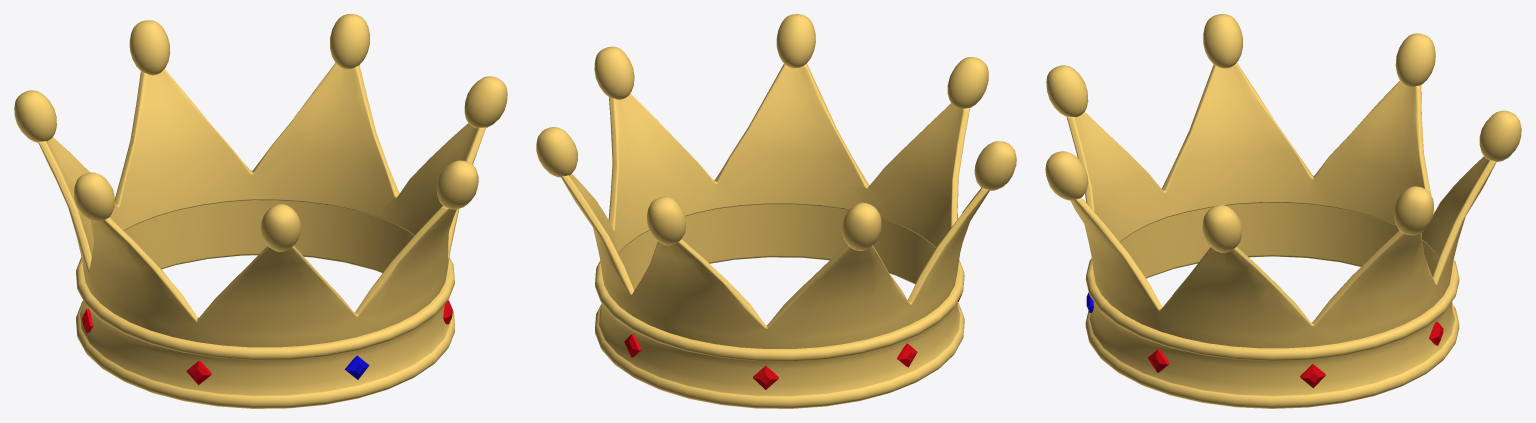
Rendered from crown.glb.
3 views of the same model, side by side, from view 1: azimuth 30°, elevation 25°; view 2: azimuth 150°, elevation 25°; view 3: azimuth 270°, elevation 25° (orthographic). The views are drawn at different scales.
Parts seen in each view (by area): view 1: Circle.001; view 2: Circle.001; view 3: Circle.001.
Boxes of the visible parts, x1=… form: Circle.001: x1=14, y1=14, x2=507, y2=408; Circle.001: x1=536, y1=14, x2=1016, y2=408; Circle.001: x1=1045, y1=14, x2=1521, y2=408.
Bounding box in the file's own units: 0.4596 × 0.2315 × 0.4494.
